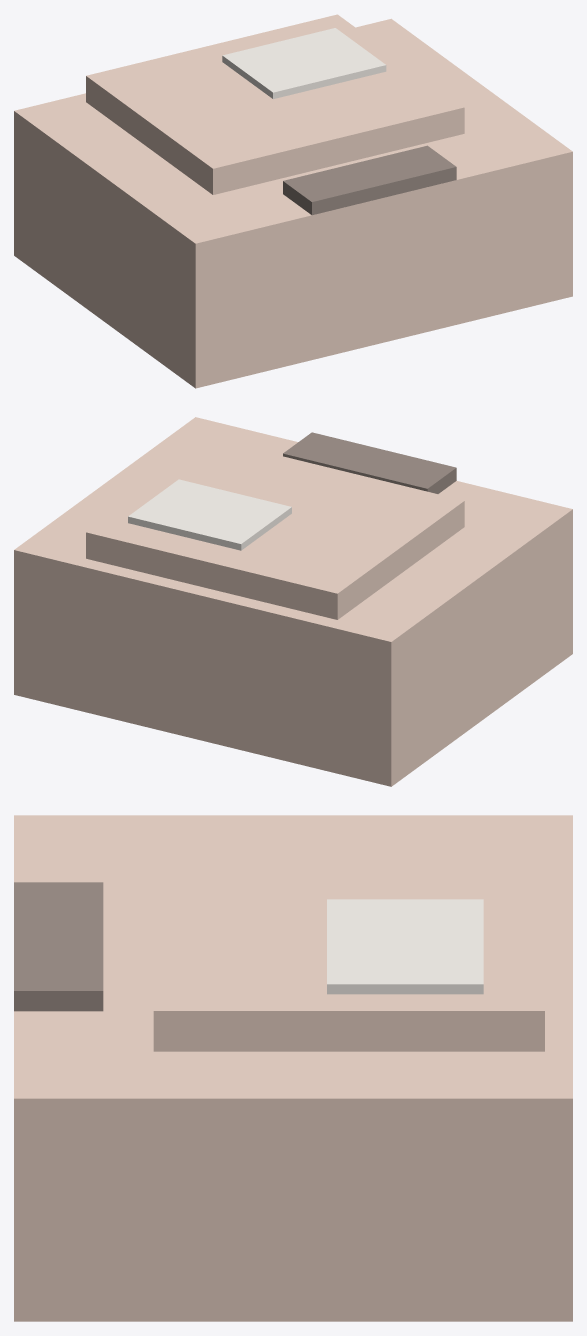
The model's file is fox-den.glb.
3 renders of one model, top to bottom at view 1: azimuth 30°, elevation 25°; view 2: azimuth 150°, elevation 25°; view 3: azimuth 270°, elevation 25°, orthographic. The views are drawn at different scales.
Parts seen in each view (by area): view 1: Mound, Mouth; view 2: Mound, Mouth; view 3: Mound, Mouth.
Boxes of the visible parts, bbox=[...] form: Mound: bbox=[14, 14, 572, 388]; Mouth: bbox=[283, 145, 456, 215]; Mound: bbox=[14, 417, 572, 786]; Mouth: bbox=[283, 432, 456, 493]; Mound: bbox=[14, 815, 572, 1321]; Mouth: bbox=[14, 882, 103, 1011].
Bounding box in the file's own units: 1.2 × 0.54 × 1.
